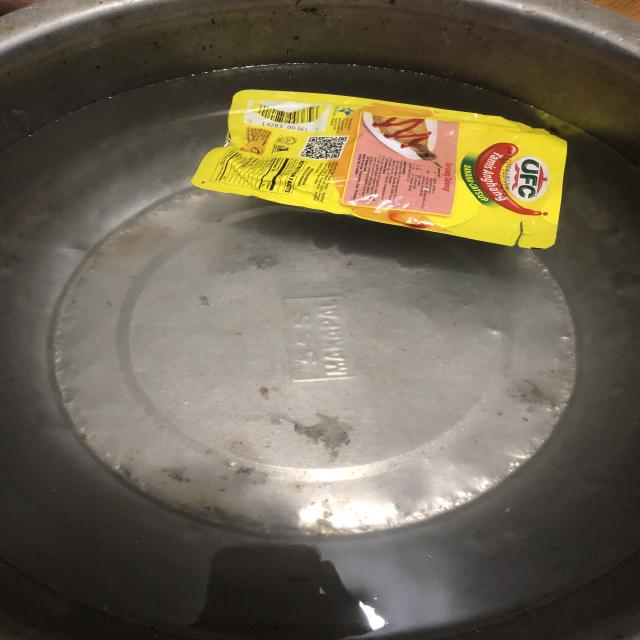Plastic Pouch: (191, 90, 567, 249)
